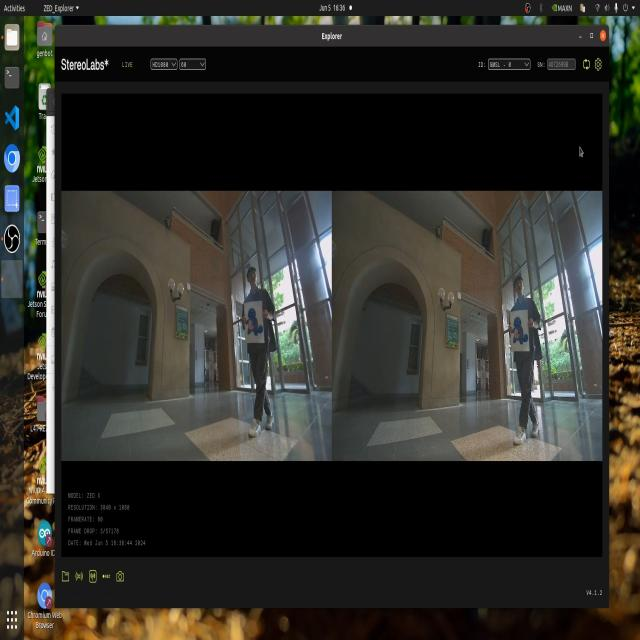blue: (240, 304, 264, 341), (508, 309, 526, 345)
